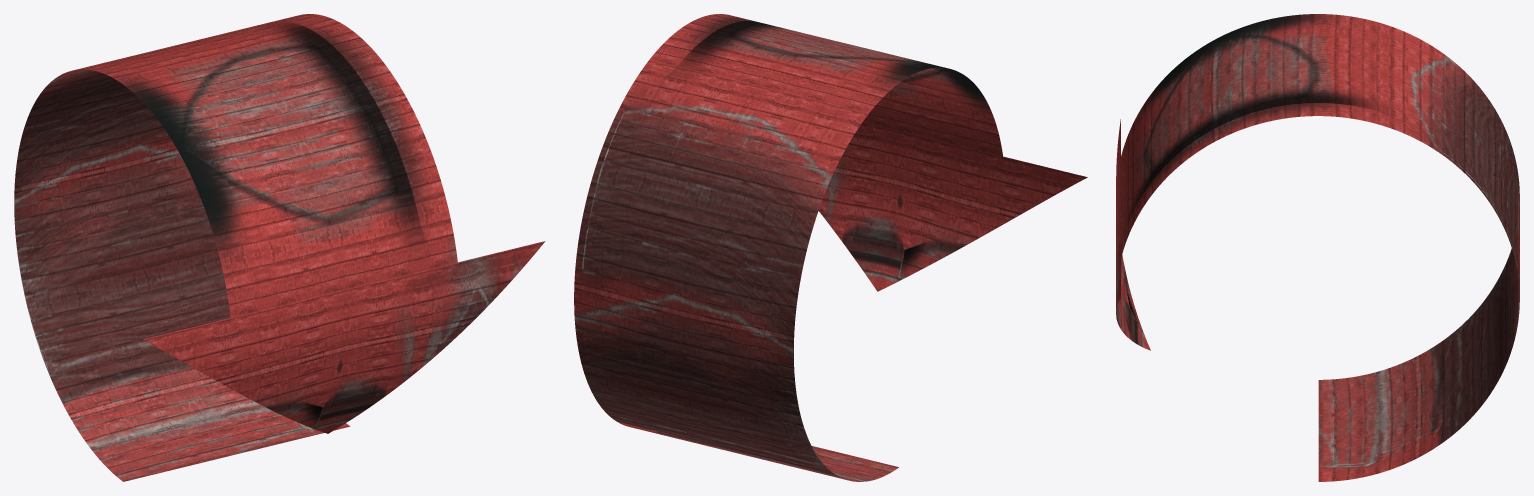
The model's file is arrow_norm.obj.
The picture shows the model from 3 angles, left to right: view 1: azimuth 30°, elevation 25°; view 2: azimuth 150°, elevation 25°; view 3: azimuth 270°, elevation 25°; orthographic projection. The views are drawn at different scales.
Bounding box in the file's own units: 1 × 0.943 × 0.943.
